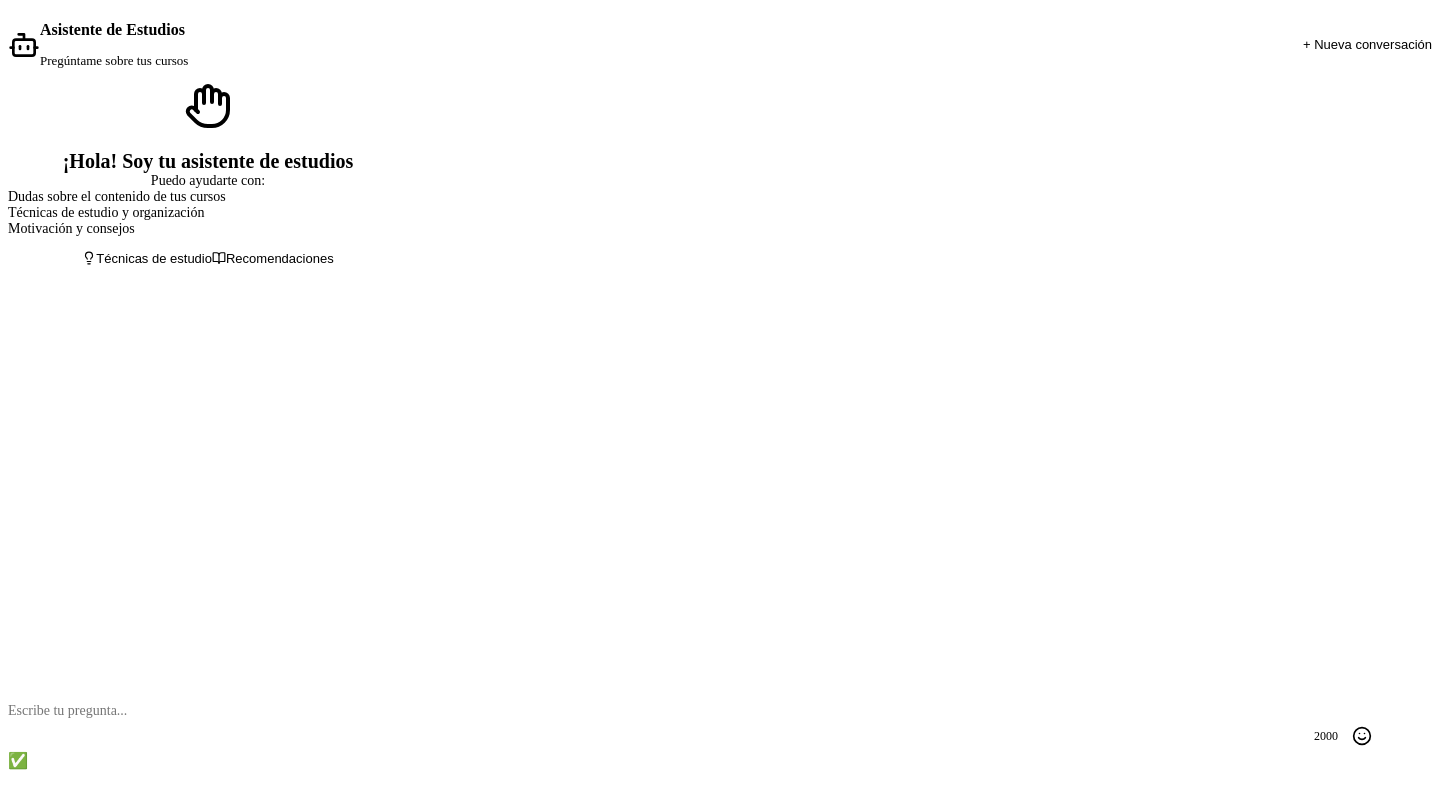
Chat › Conversation management › should handle error when creating new conversation fails
The width and height of the screenshot is (1440, 810).
Click the button with test id "button-new-conversation": (1368, 45) [1303,37,1432,52]
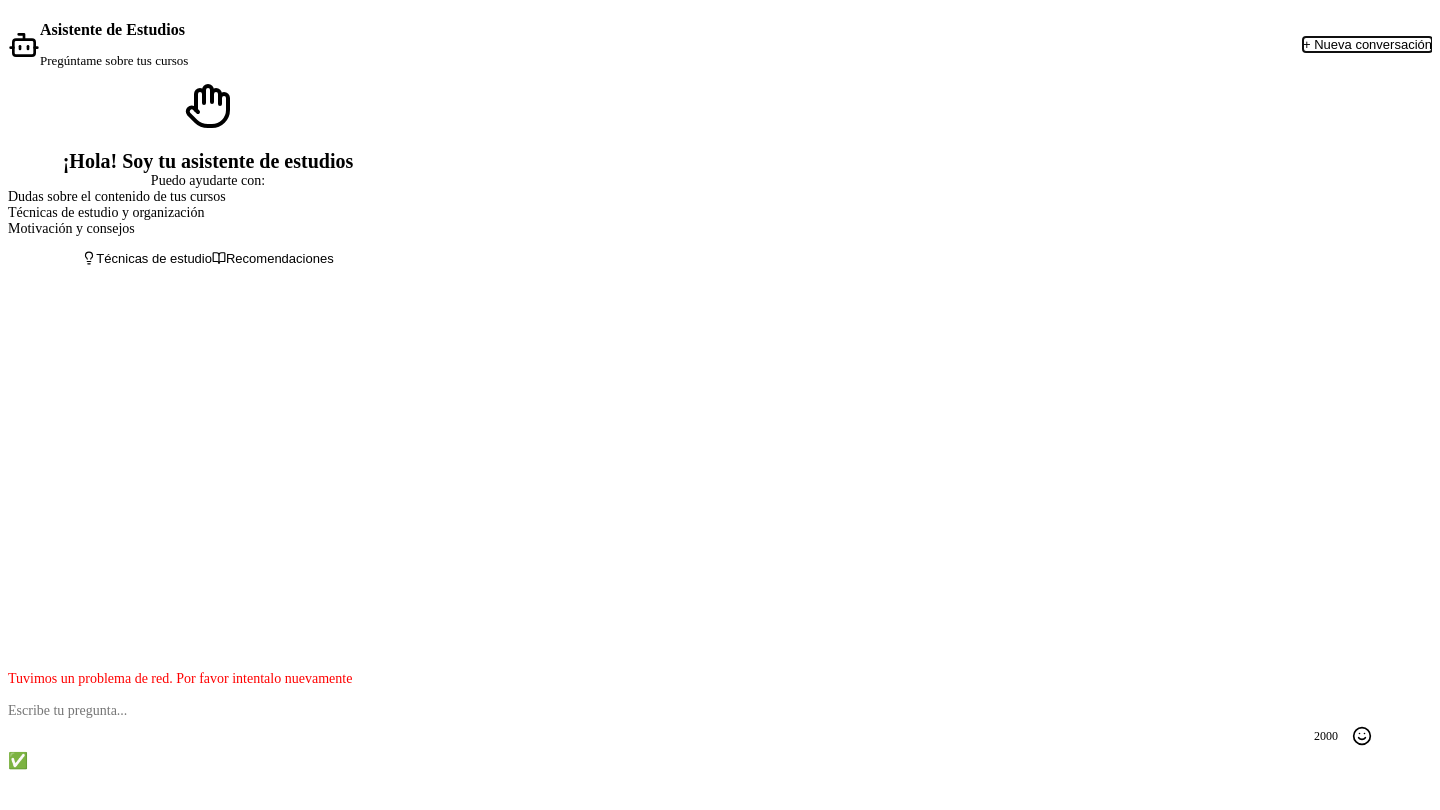
Result: the text "Tuvimos un problema de red. Por favor intentalo nuevamente" is shown at [8,671,352,686]
